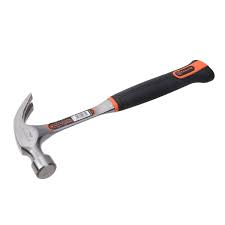martillu: (9, 57, 216, 186)
